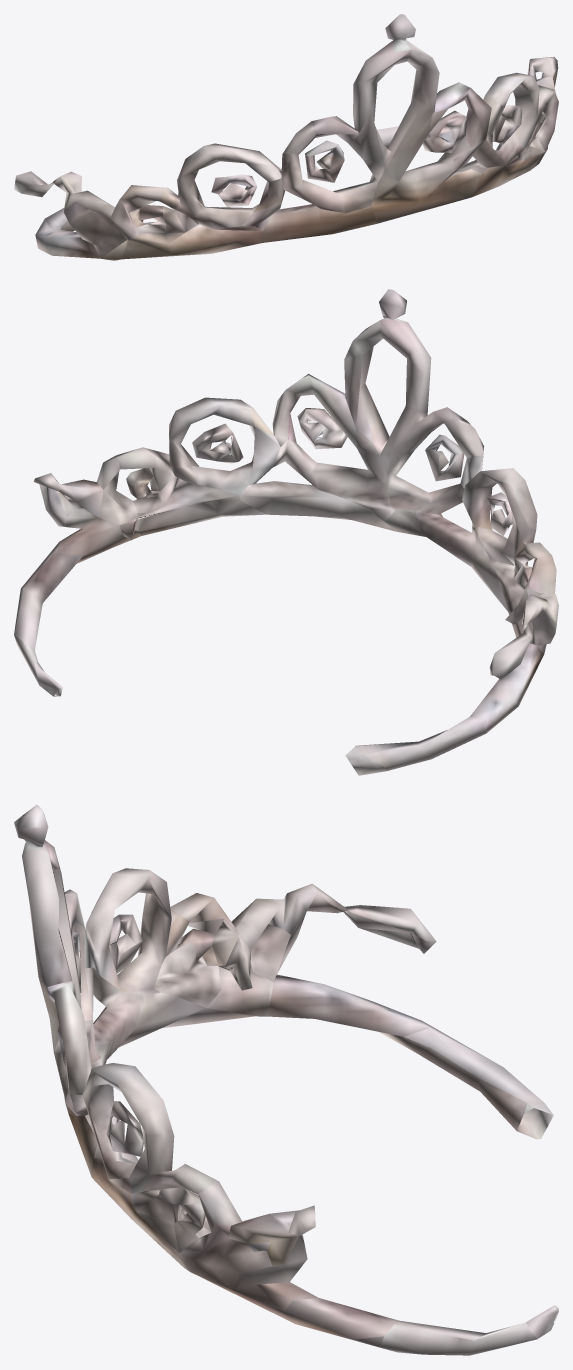
The picture shows the model from 3 angles, top to bottom: view 1: azimuth 30°, elevation 25°; view 2: azimuth 150°, elevation 25°; view 3: azimuth 270°, elevation 25°; orthographic projection. The views are drawn at different scales.
Parts seen in each view (by area): view 1: Silver-Tiara-14; view 2: Silver-Tiara-14; view 3: Silver-Tiara-14.
Boxes of the visible parts, x1,y1,x2,y2 form: Silver-Tiara-14: [14, 14, 558, 260]; Silver-Tiara-14: [14, 289, 558, 775]; Silver-Tiara-14: [14, 804, 558, 1355].
Bounding box in the file's own units: 0.3218 × 0.1864 × 0.2119.
Materials: 1 (1 with a texture image).
